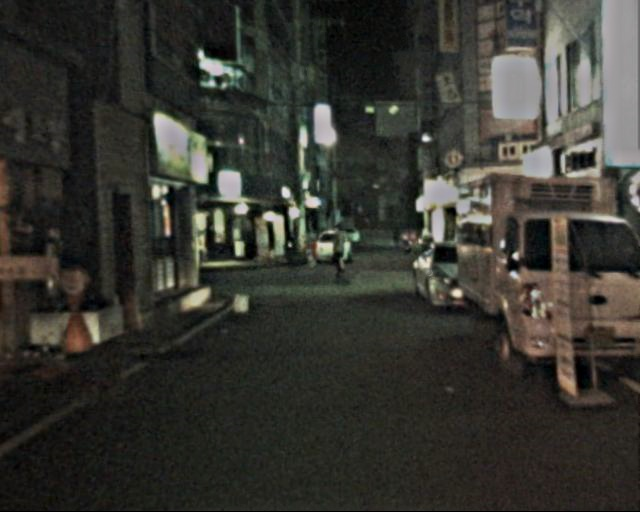person: (323, 223, 356, 286)
